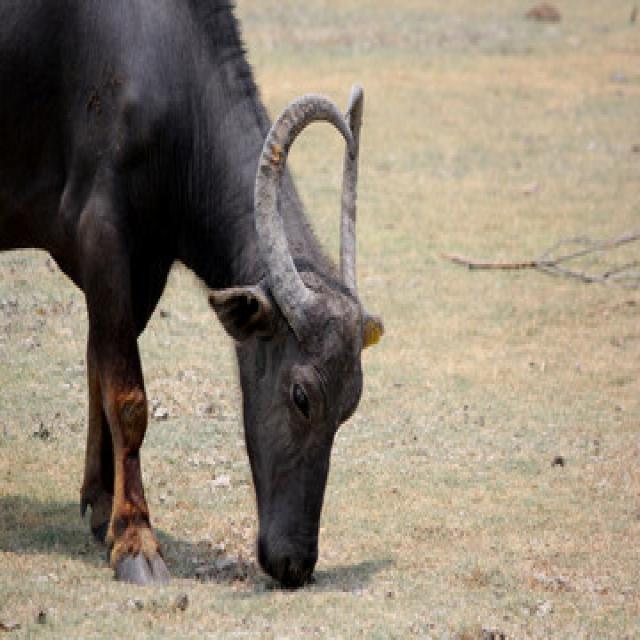Buffalo: (0, 0, 386, 592)
